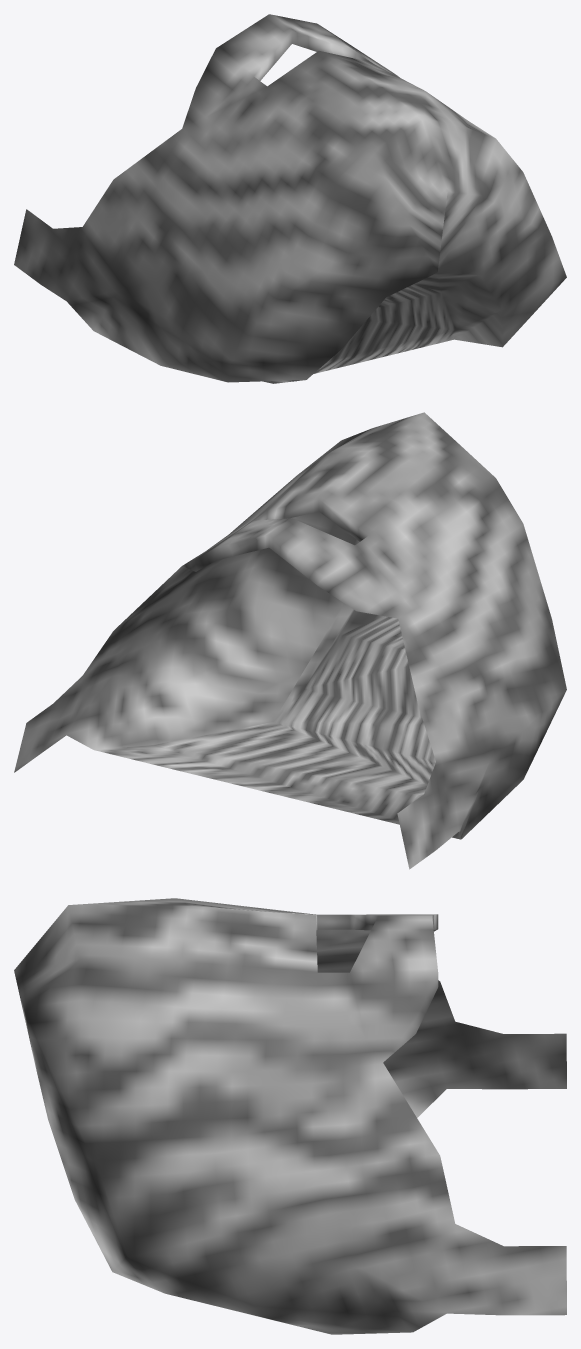
Rendered from FakeBeard_Bob_Beard_Long.fbx.
3 renders of one model, top to bottom at view 1: azimuth 30°, elevation 25°; view 2: azimuth 150°, elevation 25°; view 3: azimuth 270°, elevation 25°, orthographic. The views are drawn at different scales.
Parts seen in each view (by area): view 1: BoxOfJars003; view 2: BoxOfJars003; view 3: BoxOfJars003.
Boxes of the visible parts, box(x1,y1,x2,y2) form: BoxOfJars003: box(14, 14, 566, 383); BoxOfJars003: box(14, 412, 566, 869); BoxOfJars003: box(14, 898, 566, 1334).
Bounding box in the file's own units: 11.07 × 7.73 × 11.43.
